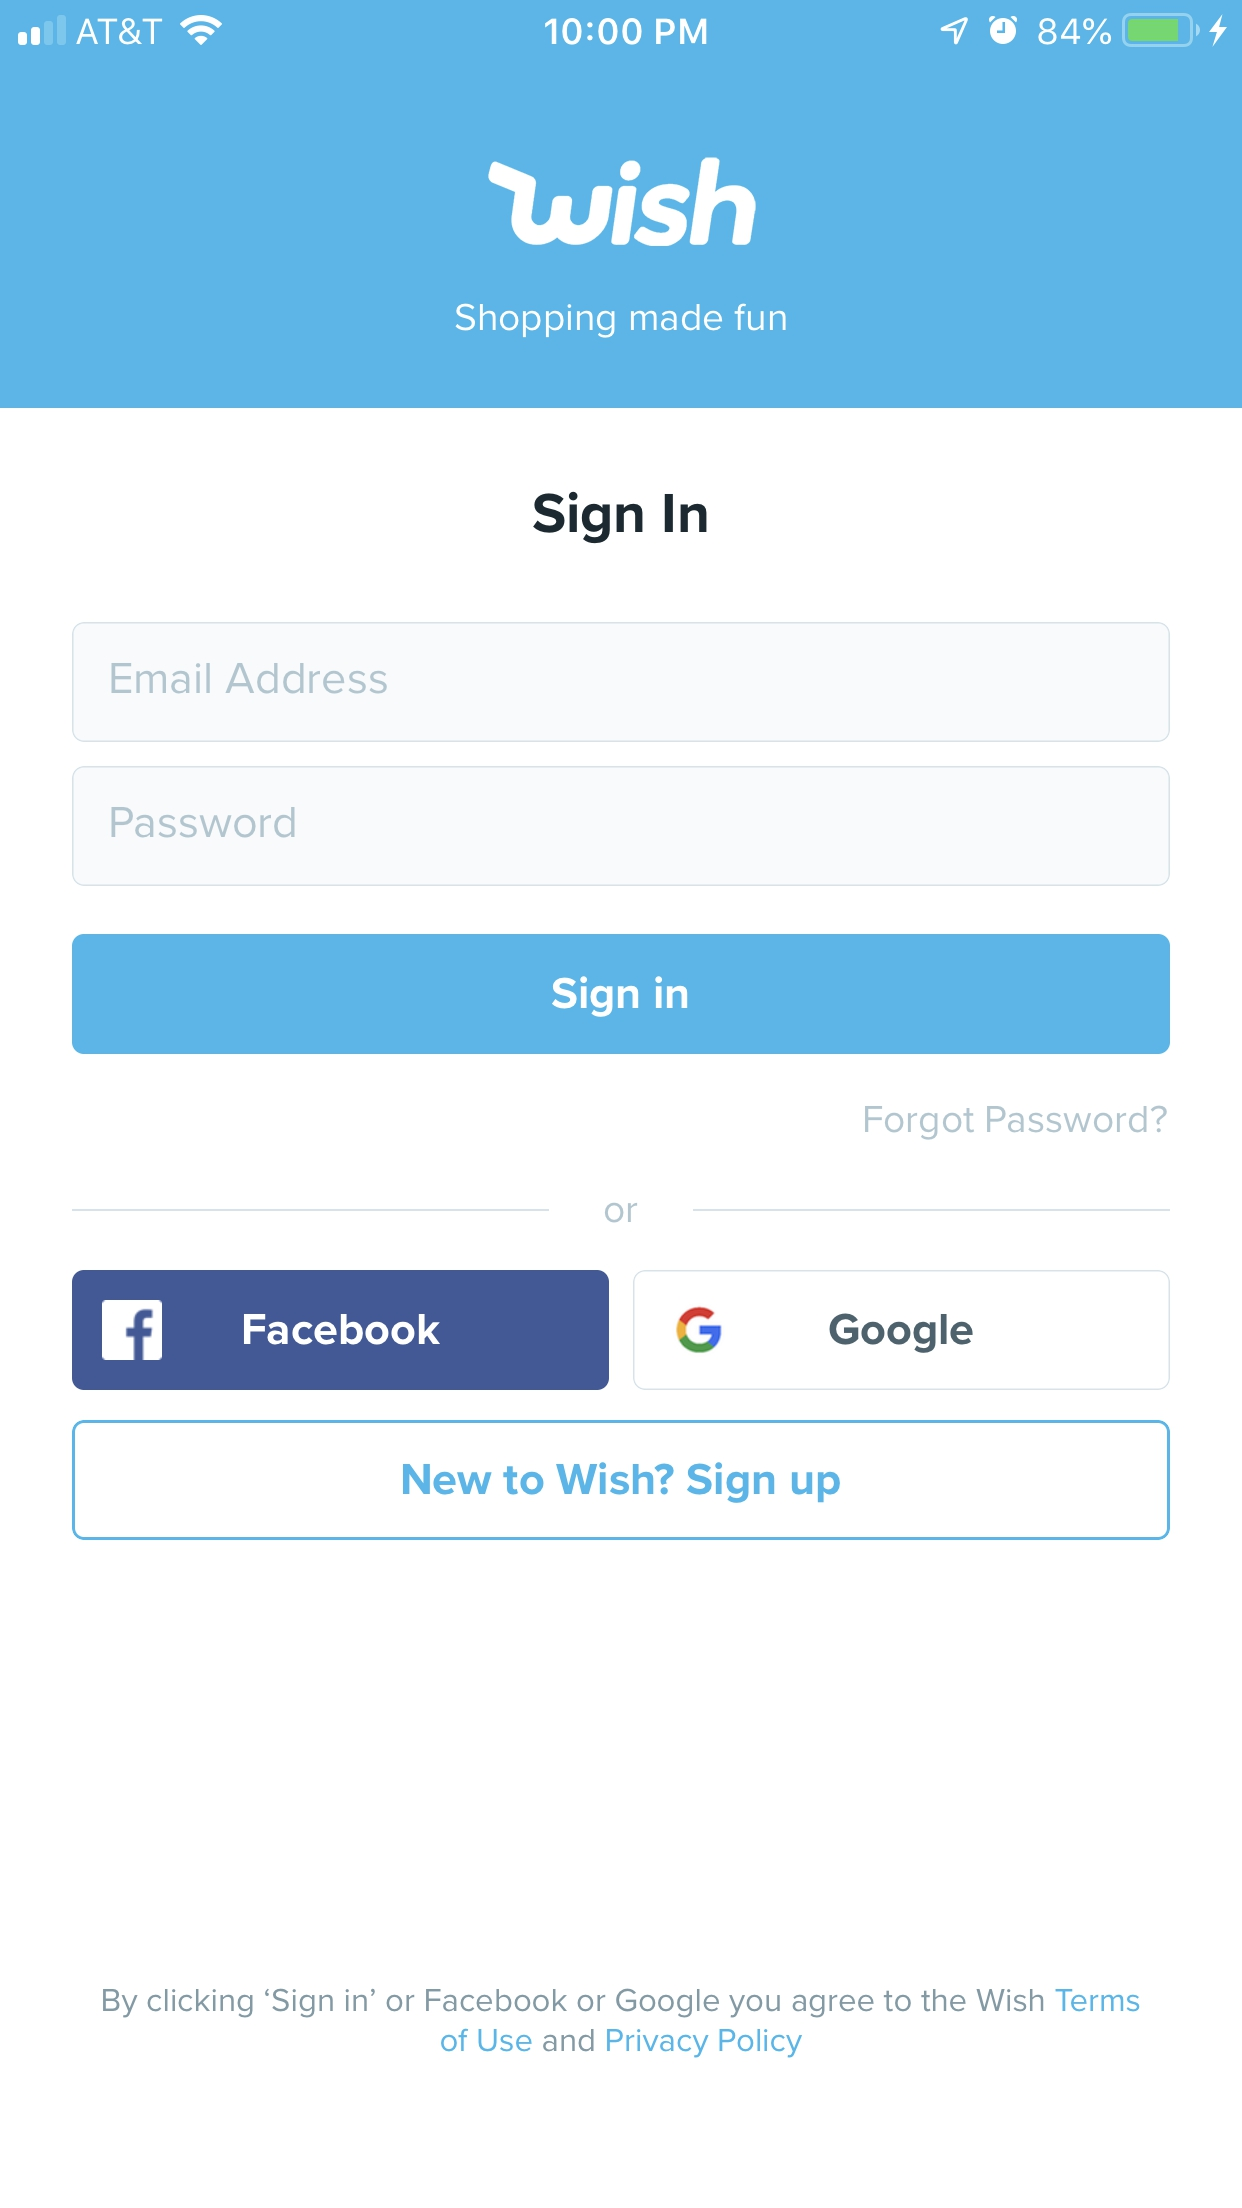EditText: (71, 622, 1171, 743), (73, 766, 1171, 887)
Image: (488, 158, 757, 249)
Text: (103, 1987, 1140, 2059), (455, 303, 787, 340), (864, 1106, 1168, 1140), (532, 491, 708, 544), (112, 663, 388, 695), (111, 807, 296, 839), (605, 1203, 638, 1224)
TextButton: (71, 1419, 1171, 1541), (73, 934, 1171, 1055), (632, 1271, 1171, 1391), (73, 1271, 610, 1391)
UpperTaskBar: (2, 2, 1242, 50)
